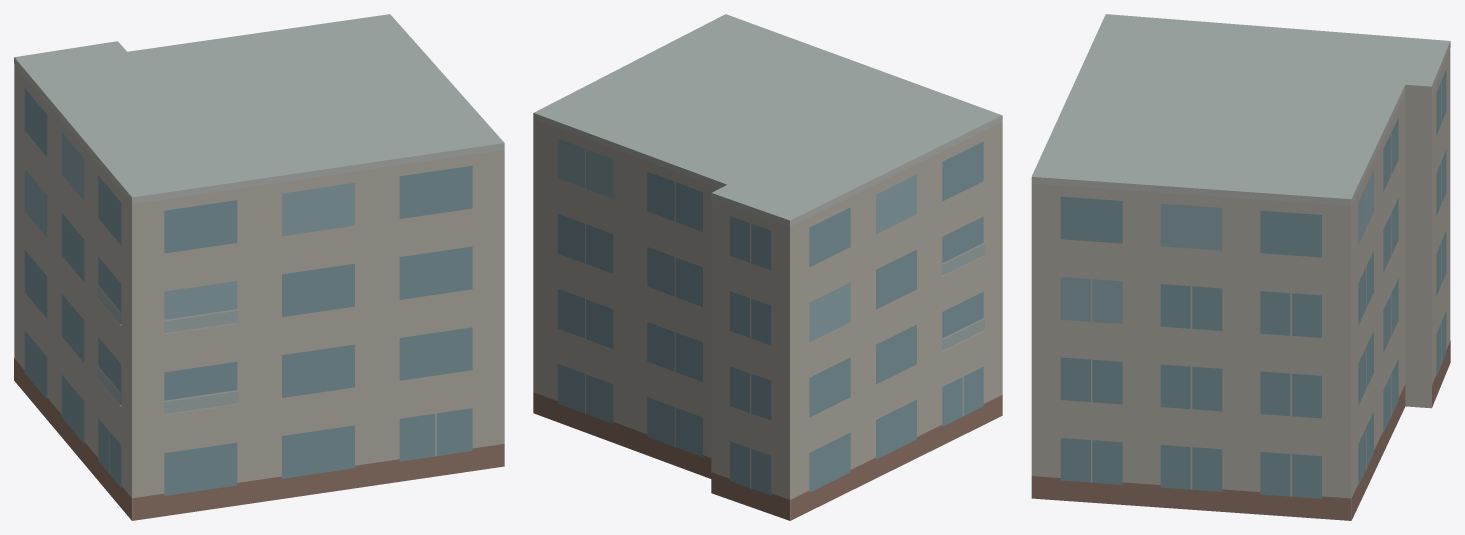
File: survey-upis-32977362.glb
3 views of the same model, side by side, from view 1: azimuth 30°, elevation 25°; view 2: azimuth 150°, elevation 25°; view 3: azimuth 270°, elevation 25° (orthographic). The views are drawn at different scales.
Parts seen in each view (by area): view 1: survey-upis-32977362.tmp; view 2: survey-upis-32977362.tmp; view 3: survey-upis-32977362.tmp.
Boxes of the visible parts, x1,y1,x2,y2 form: survey-upis-32977362.tmp: (14,14,504,520); survey-upis-32977362.tmp: (533,14,1002,520); survey-upis-32977362.tmp: (1031,14,1450,520).
Bounding box in the file's own units: 14.7 × 11.9 × 14.06.
